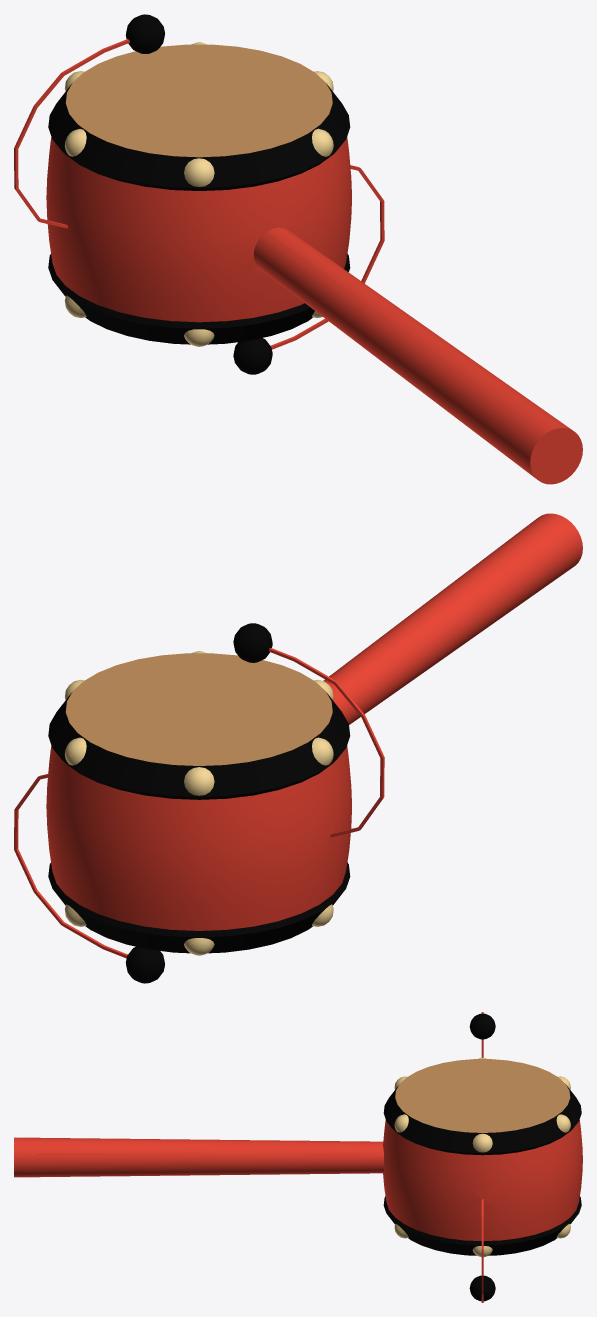
The model's file is DendenDaiko.fbx.
The picture shows the model from 3 angles, top to bottom: view 1: azimuth 30°, elevation 25°; view 2: azimuth 150°, elevation 25°; view 3: azimuth 270°, elevation 25°; orthographic projection. The views are drawn at different scales.
Visible parts, largest first — view 1: Taiko; view 2: Taiko; view 3: Taiko.
Boxes of the visible parts, box(x1,y1,x2,y2) form: Taiko: box(14, 14, 582, 484); Taiko: box(14, 513, 582, 983); Taiko: box(14, 1012, 582, 1302).
Size of the model in its own units: 343 by 340 by 698.
Materials: 1 (1 with a texture image).
